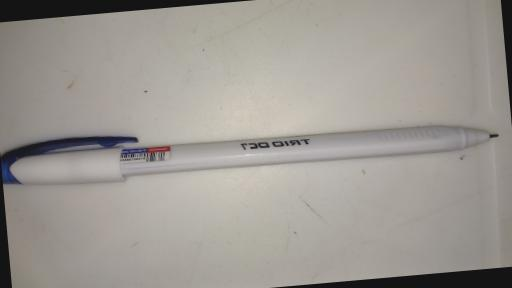pen: (0, 99, 500, 188)
